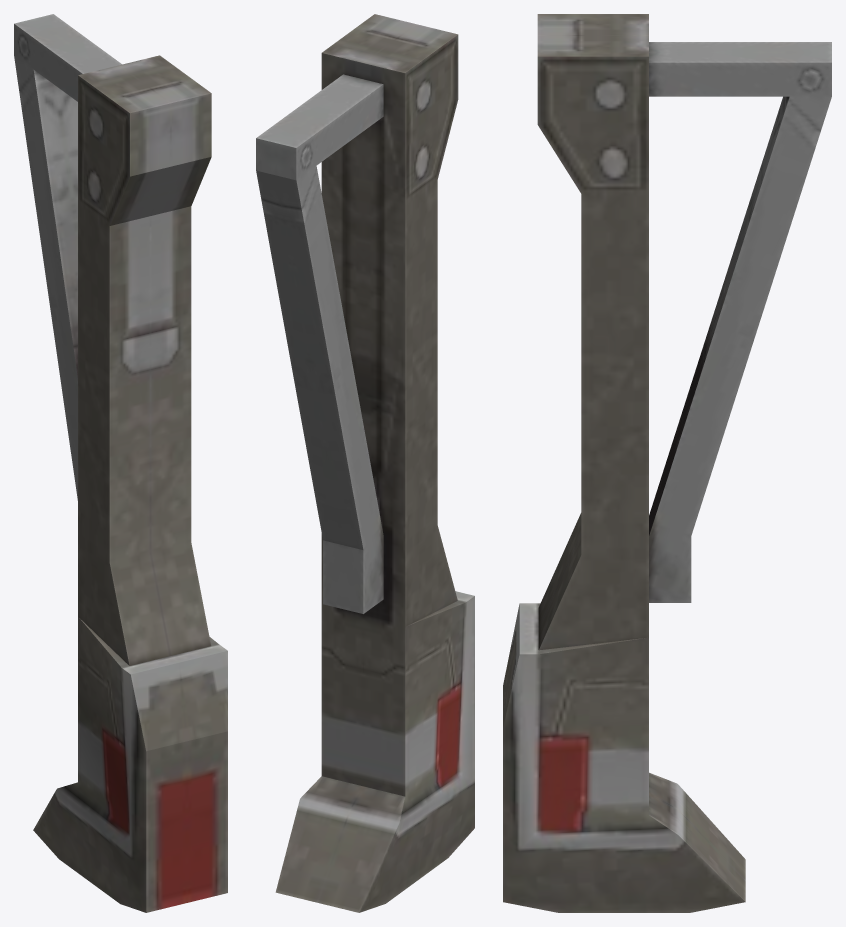
The model's file is Part - Pylon 02-DvaZu0E3.glb.
3 renders of one model, left to right at view 1: azimuth 30°, elevation 25°; view 2: azimuth 150°, elevation 25°; view 3: azimuth 270°, elevation 25°, orthographic. The views are drawn at different scales.
Parts seen in each view (by area): view 1: Pylon_02; view 2: Pylon_02; view 3: Pylon_02.
Part boxes in pixels (x1,y1,x2,y2): Pylon_02: [14, 14, 227, 912]; Pylon_02: [256, 14, 474, 912]; Pylon_02: [503, 14, 831, 912].
Bounding box in the file's own units: 0.3147 × 2.47 × 0.8592.
Materials: 1 (1 with a texture image).
